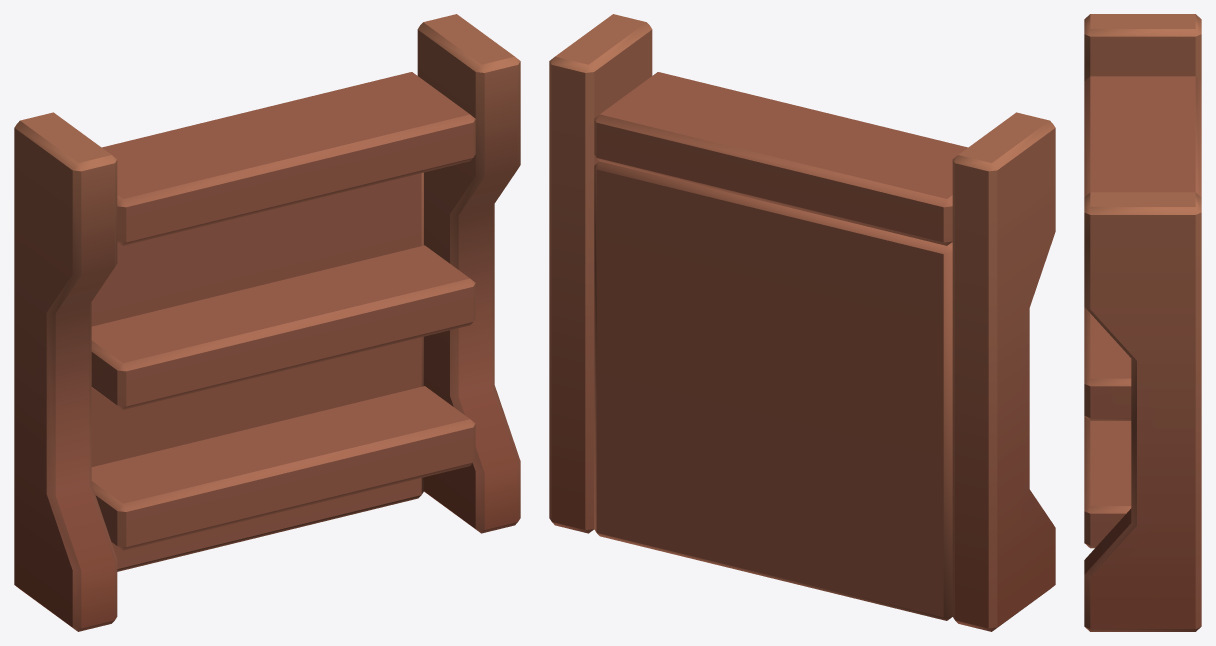
Rendered from bartop_b_medium.glb.
3 views of the same model, side by side, from view 1: azimuth 30°, elevation 25°; view 2: azimuth 150°, elevation 25°; view 3: azimuth 270°, elevation 25° (orthographic). The views are drawn at different scales.
Visible parts, largest first — view 1: bartop_B_medium; view 2: bartop_B_medium; view 3: bartop_B_medium.
Part boxes in pixels (bbox=[...]): bartop_B_medium: bbox=[14, 14, 520, 631]; bartop_B_medium: bbox=[549, 14, 1055, 631]; bartop_B_medium: bbox=[1084, 14, 1201, 631].
Bounding box in the file's own units: 2 × 2 × 0.5001.
1 material, 1 textured.
